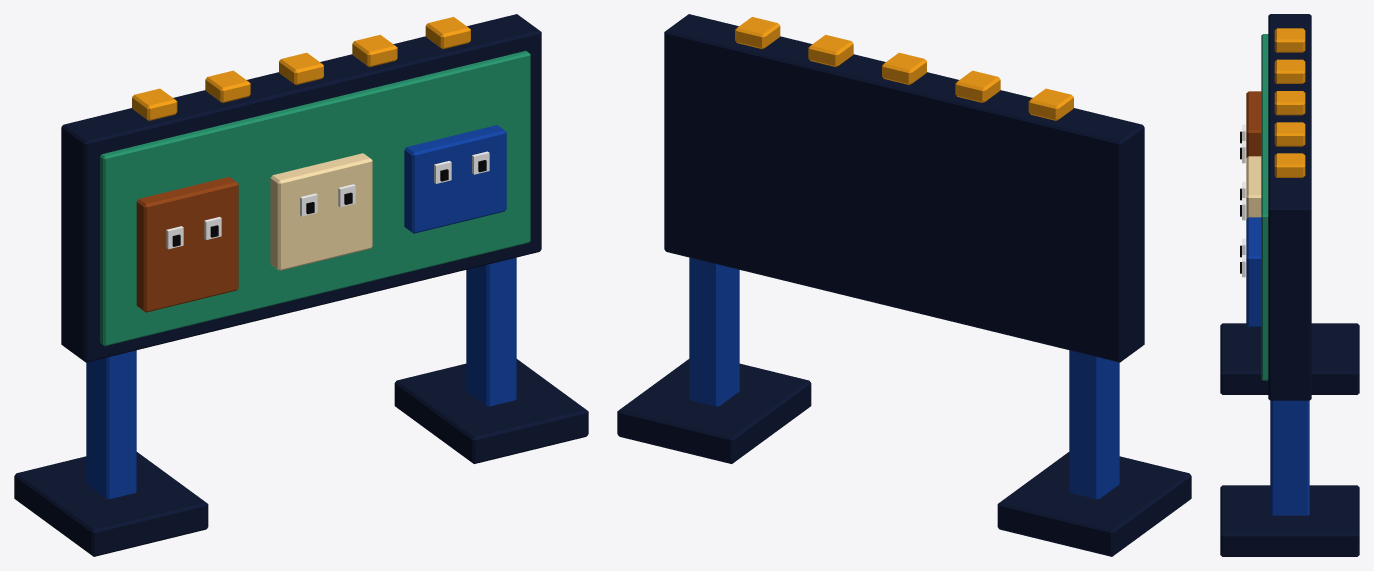
File: BrainrotMarketSign.glb
3 views of the same model, side by side, from view 1: azimuth 30°, elevation 25°; view 2: azimuth 150°, elevation 25°; view 3: azimuth 270°, elevation 25° (orthographic). The views are drawn at different scales.
Visible parts, largest first — view 1: BrainrotMarketSign; view 2: BrainrotMarketSign; view 3: BrainrotMarketSign.
Part boxes in pixels (x1,y1,x2,y2): BrainrotMarketSign: [14, 14, 588, 556]; BrainrotMarketSign: [617, 14, 1191, 556]; BrainrotMarketSign: [1220, 14, 1359, 556].
Bounding box in the file's own units: 5.75 × 4.51 × 1.6.
Materials: 1 (1 with a texture image).
